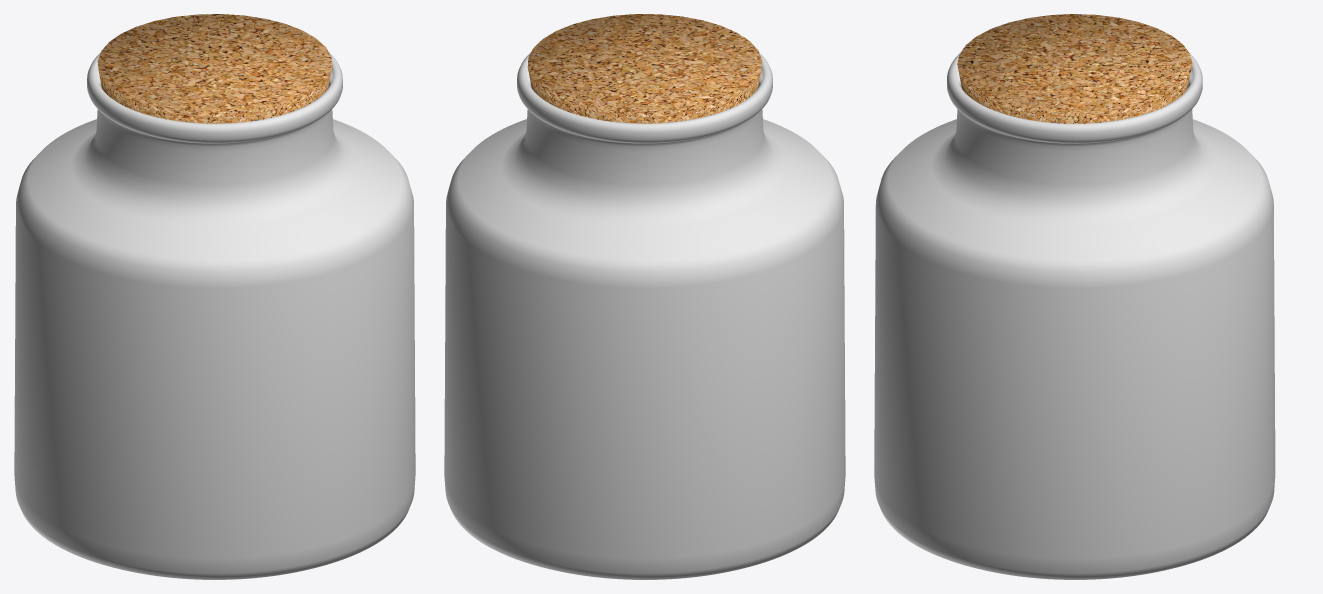
Rendered from forestInJar.fbx.
3 renders of one model, left to right at view 1: azimuth 30°, elevation 25°; view 2: azimuth 150°, elevation 25°; view 3: azimuth 270°, elevation 25°, orthographic.
Visible parts, largest first — view 1: vRIDO, cORK; view 2: vRIDO, cORK; view 3: vRIDO, cORK.
Part boxes in pixels (x1,y1,x2,y2): vRIDO: (14, 52, 415, 579); cORK: (97, 14, 332, 123); vRIDO: (444, 52, 845, 579); cORK: (527, 14, 762, 123); vRIDO: (874, 53, 1275, 579); cORK: (957, 14, 1192, 123).
Size of the model in its own units: 195 by 235 by 211.
